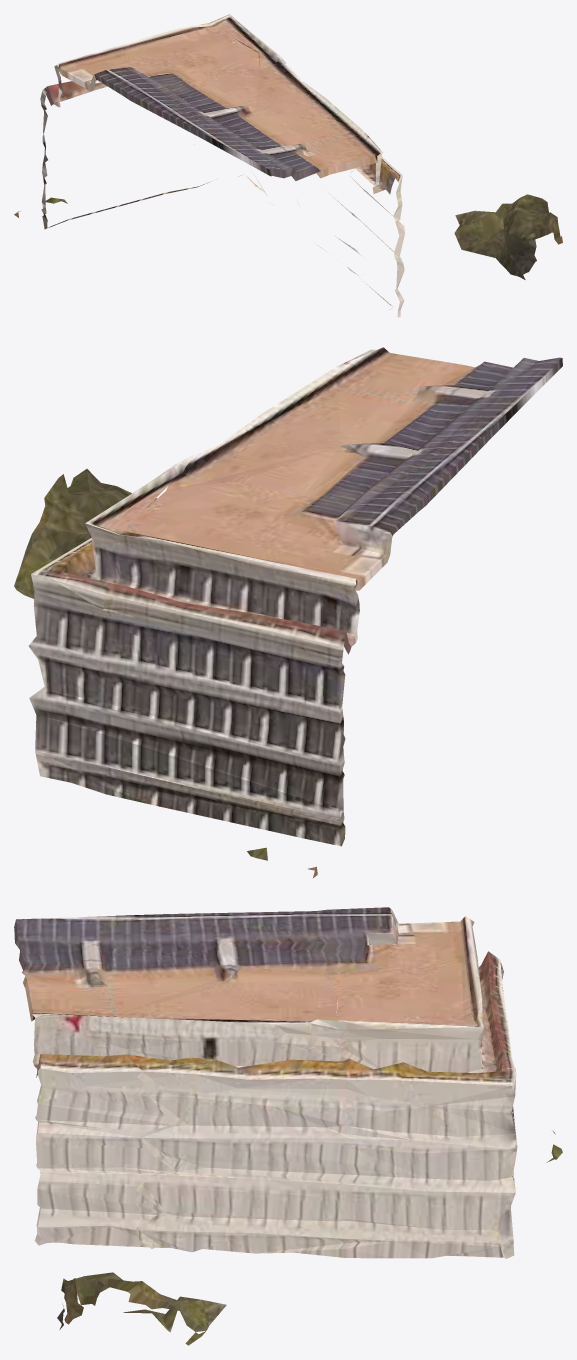
3 renders of one model, top to bottom at view 1: azimuth 30°, elevation 25°; view 2: azimuth 150°, elevation 25°; view 3: azimuth 270°, elevation 25°, orthographic. The views are drawn at different scales.
Visible parts, largest first — view 1: Mesh_0; view 2: Mesh_0; view 3: Mesh_0.
Part boxes in pixels (x1=…): Mesh_0: x1=14, y1=14, x2=562, y2=317; Mesh_0: x1=14, y1=347, x2=562, y2=877; Mesh_0: x1=14, y1=907, x2=562, y2=1345.
Bounding box in the file's own units: 32.9 × 16.97 × 34.57.
1 material, 1 textured.
